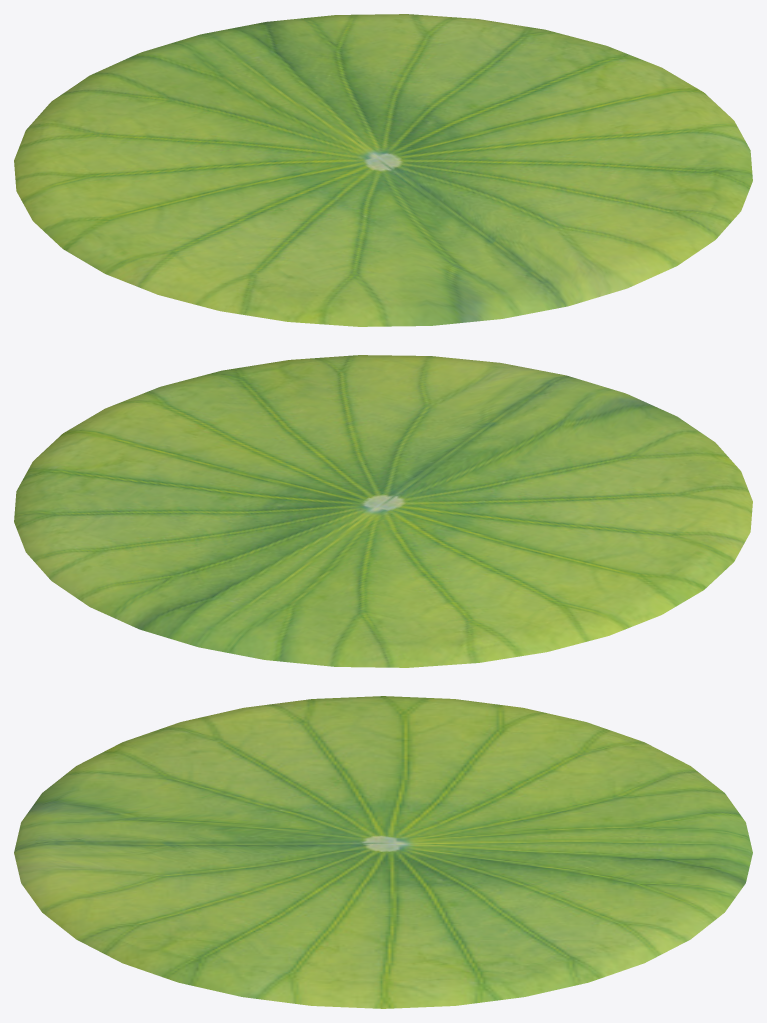
File: lutosfbx.fbx
3 views of the same model, one above another, from view 1: azimuth 30°, elevation 25°; view 2: azimuth 150°, elevation 25°; view 3: azimuth 270°, elevation 25° (orthographic).
Visible parts, largest first — view 1: Circle; view 2: Circle; view 3: Circle.
Boxes of the visible parts, x1=… form: Circle: x1=14, y1=14, x2=752, y2=326; Circle: x1=14, y1=355, x2=752, y2=667; Circle: x1=14, y1=696, x2=752, y2=1008.
Size of the model in its own units: 196 by 2.57 by 196.
Materials: 1 (1 with a texture image).
